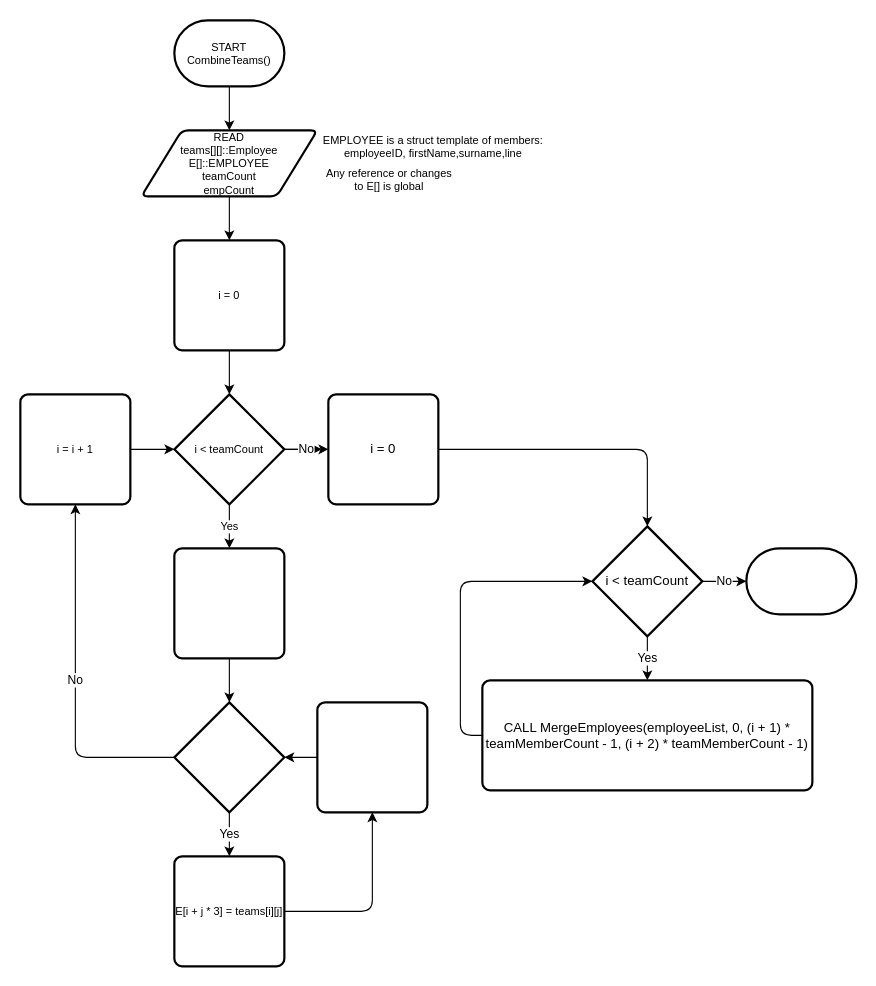
Image size: 876x986. Some labels were removed from this diagram. Here are the shapes that lost their labels. From the top down, the centre of each, then its label:
At point 801,581: "END".
At point 229,603: "j = 0".
At point 229,757: "j < empCount".
At point 372,757: "j = j + 1".
